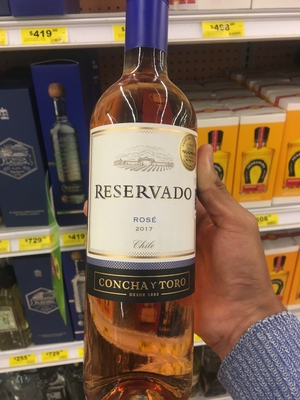reservado rose: (79, 15, 204, 395)
